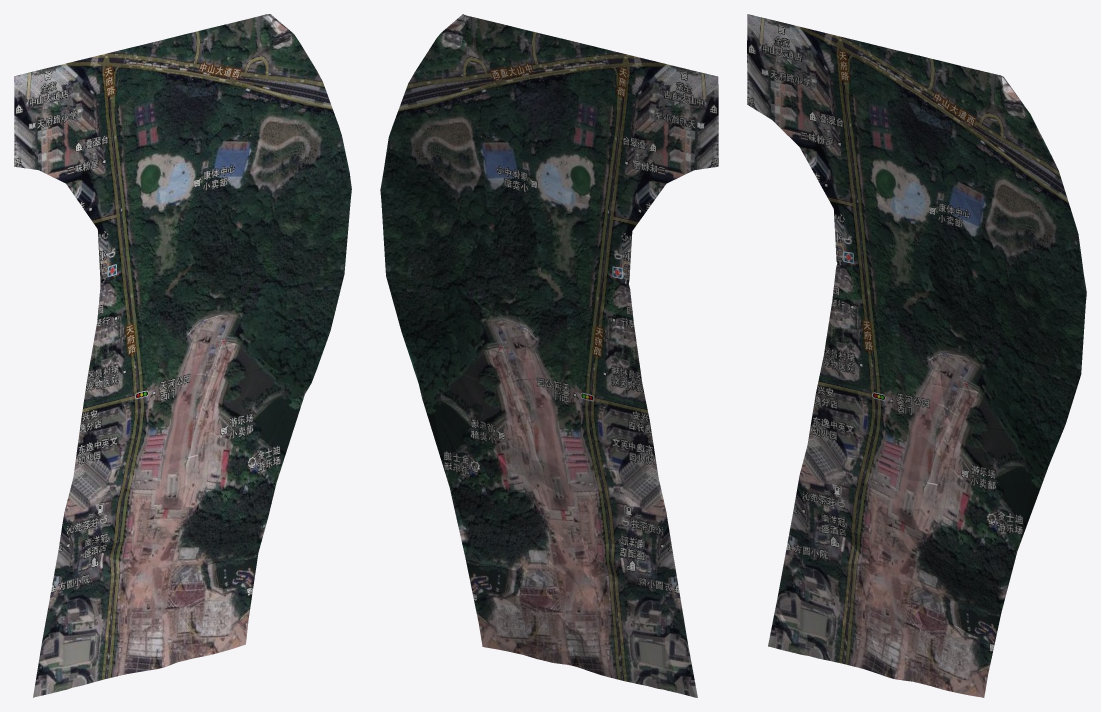
The picture shows the model from 3 angles, left to right: view 1: azimuth 30°, elevation 25°; view 2: azimuth 150°, elevation 25°; view 3: azimuth 330°, elevation 25°; orthographic projection.
Parts seen in each view (by area): view 1: 0_1_2_2_1; view 2: 0_1_2_2_1; view 3: 0_1_2_2_1.
Boxes of the visible parts, x1,y1,x2,y2 form: 0_1_2_2_1: (14,14,351,697); 0_1_2_2_1: (380,14,718,697); 0_1_2_2_1: (747,14,1086,697).
Size of the model in its own units: 549 by 972 by 21.27.
1 material, 1 textured.
